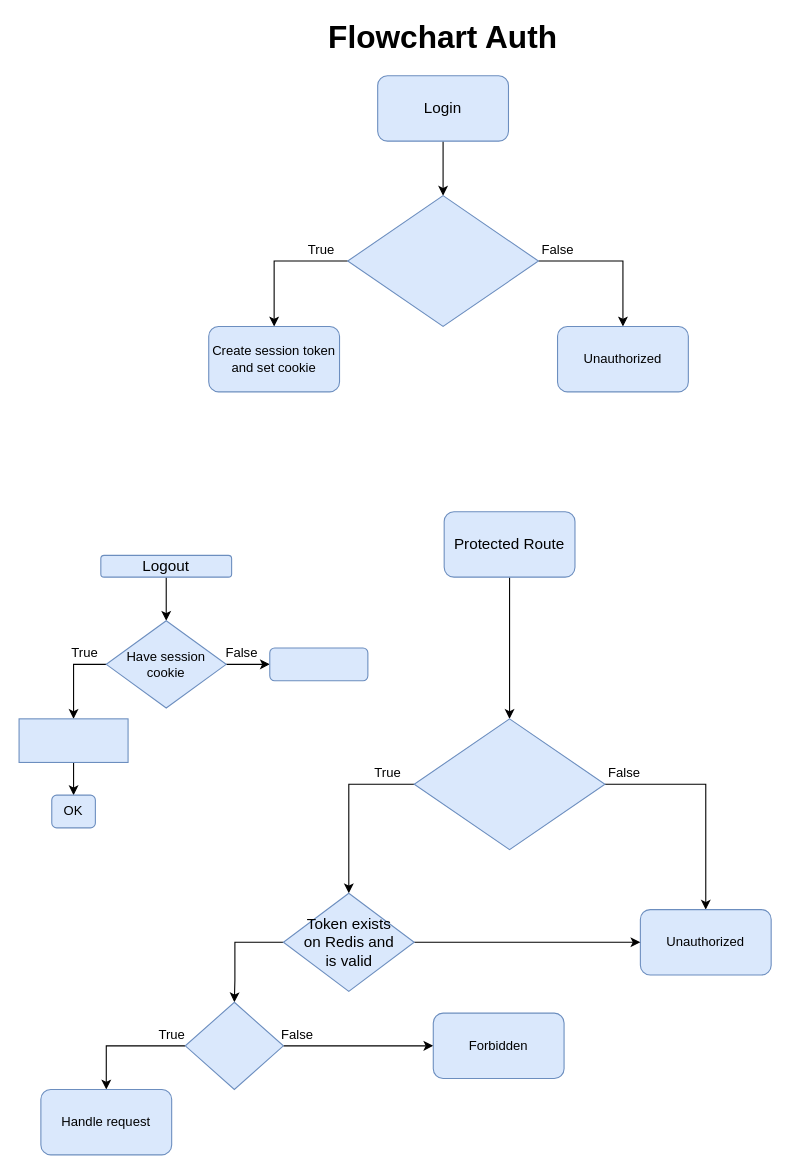
This 790x1174 diagram has some shape labels left out. The box of each missing label's shape, as (x1, y1, x2, y2) in pixels:
Bad request: (269, 647, 368, 681)
Delete Session on Redis: (18, 718, 128, 762)
Has token: (413, 718, 605, 850)
User has access to this route?: (184, 1001, 283, 1089)
Username exist and password is corrrect?: (347, 195, 538, 326)
